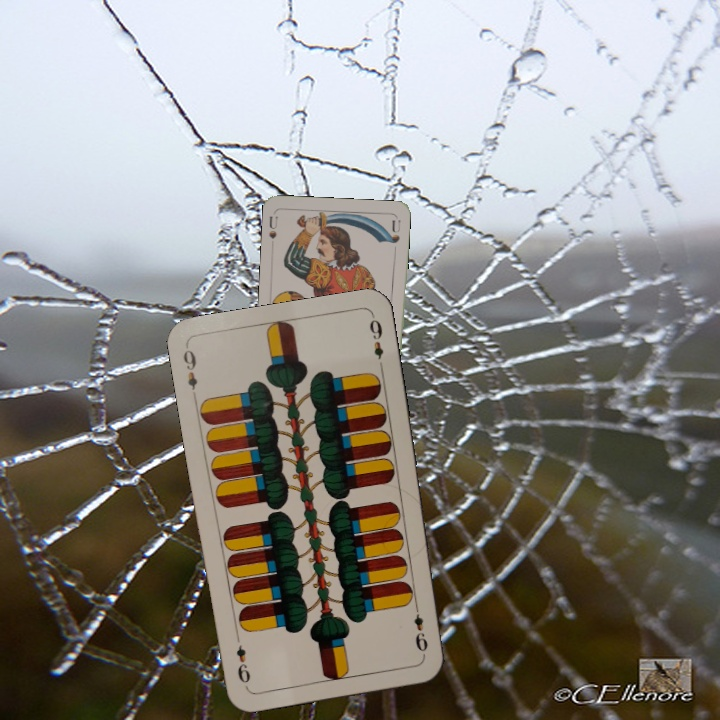E9: (410, 599, 430, 658), (179, 345, 200, 393)
SU: (265, 210, 280, 241)
